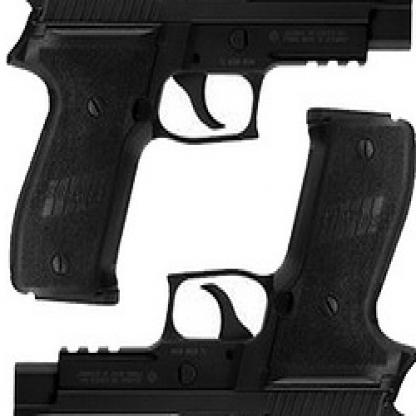gun: (8, 0, 416, 304), (13, 105, 414, 414)
